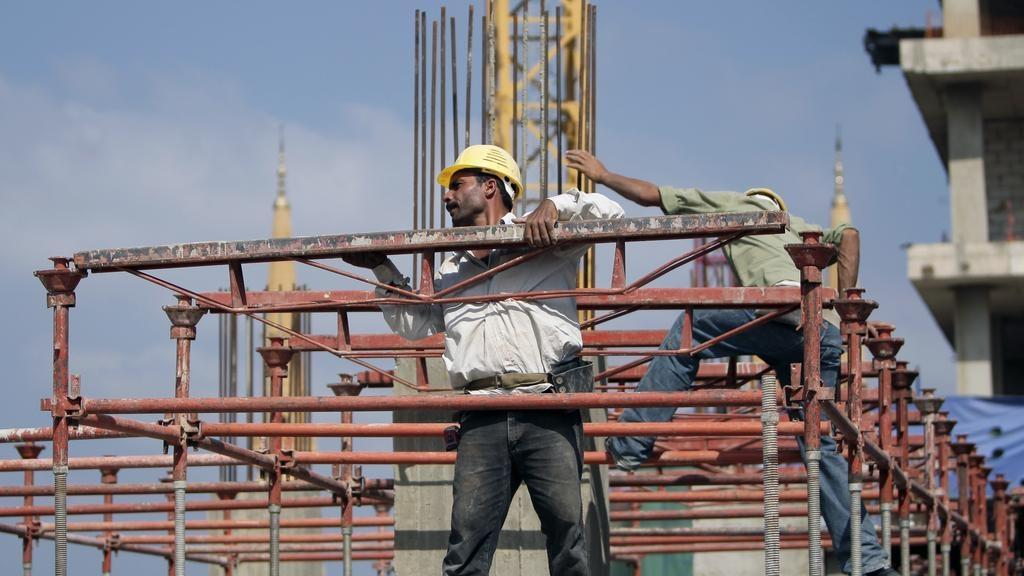helmet: (436, 146, 528, 202)
person: (434, 138, 604, 576)
